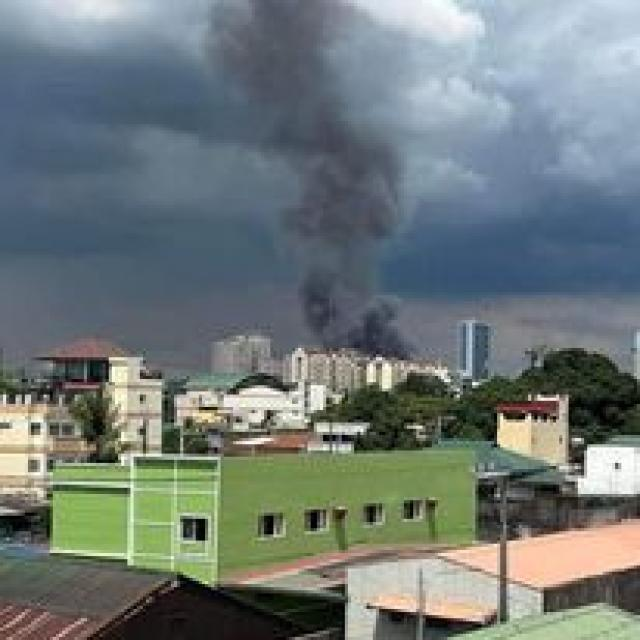Smoke: (296, 147, 406, 340), (219, 0, 349, 148)
